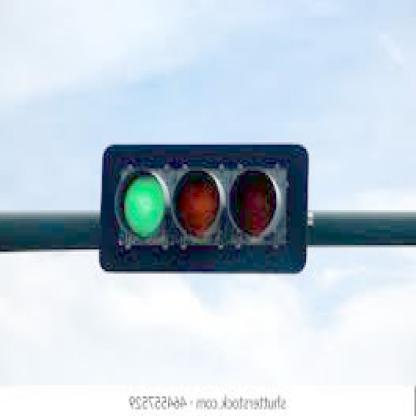traffic-light: (105, 145, 309, 270)
